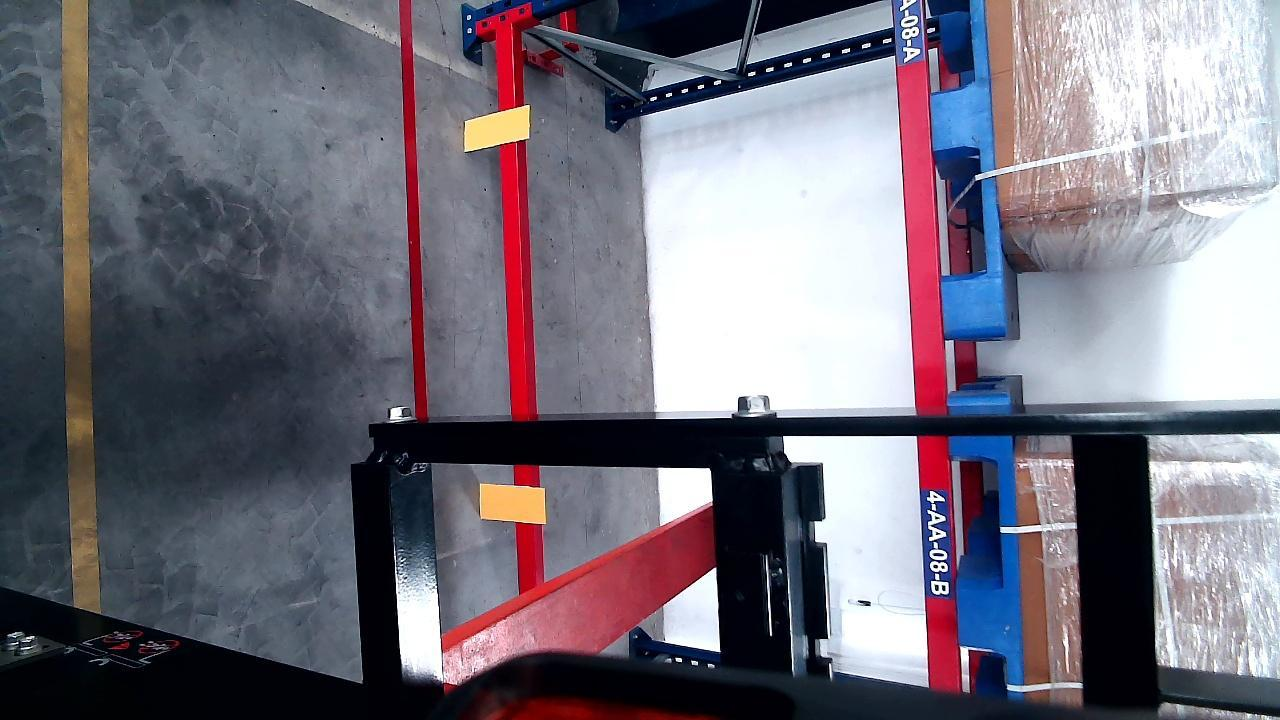red_line: (399, 0, 431, 420)
yellow_line: (59, 0, 100, 613)
